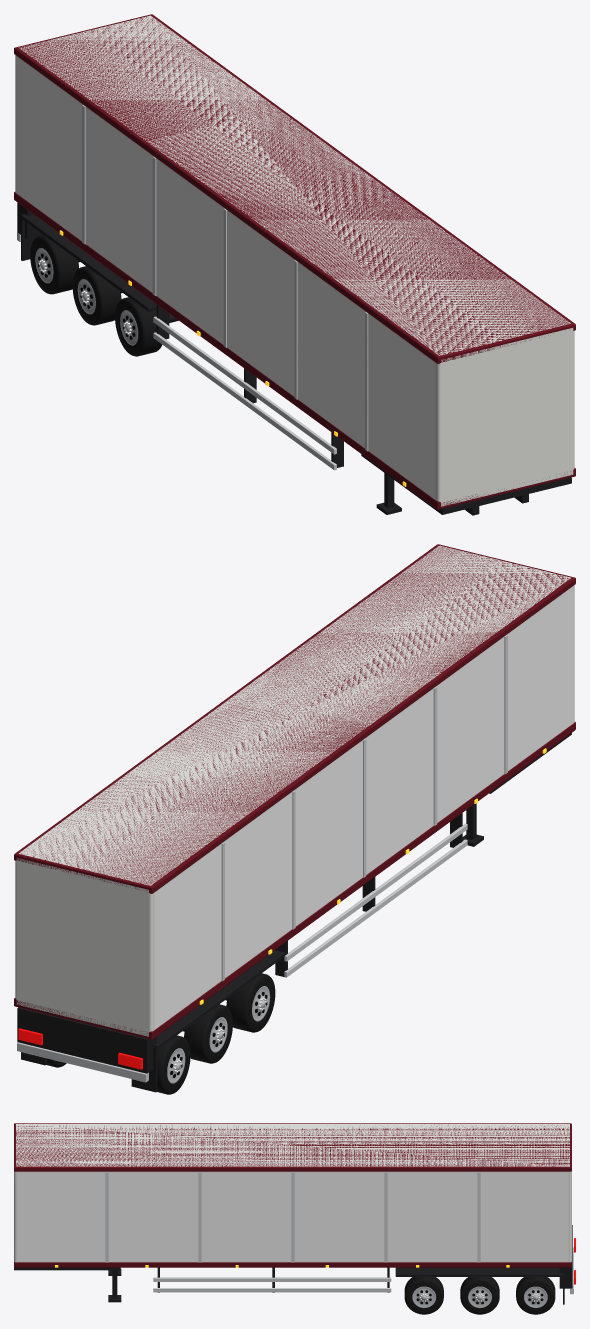
File: trailer.glb
3 renders of one model, top to bottom at view 1: azimuth 30°, elevation 25°; view 2: azimuth 150°, elevation 25°; view 3: azimuth 270°, elevation 25°, orthographic. The views are drawn at different scales.
Parts seen in each view (by area): view 1: body, curtain-1, top_rail, bot_rail, mud-1, w1-1_tire0, w2-1_tire0, guard-10.9, guard-10.62, w0-1_tire0, front_plate, post-14; view 2: body, curtain-1, top_rail, rear_frame, bot_rail, mud-1, w1-1_tire0, w0-1_tire0, guard-10.9, guard-10.62, rear_bumper, w2-1_tire0 (+1 smaller); view 3: curtain1, body, top_rail, bot_rail, mud1, guard10.9, guard10.62, w01_tire0, w11_tire0, w21_tire0, front_plate, w01_rim (+8 smaller).
Part boxes in pixels (x1,y1,x2,y2): body: [15, 15, 574, 506]; curtain-1: [16, 57, 435, 498]; top_rail: [14, 14, 575, 363]; bot_rail: [14, 192, 575, 509]; mud-1: [21, 214, 156, 311]; w1-1_tire0: [72, 266, 121, 325]; w2-1_tire0: [30, 235, 78, 294]; guard-10.9: [153, 316, 336, 454]; guard-10.62: [153, 332, 336, 470]; w0-1_tire0: [115, 297, 162, 356]; front_plate: [361, 454, 571, 514]; post-14: [152, 157, 156, 295]; body: [15, 545, 574, 1036]; curtain-1: [154, 587, 573, 1028]; top_rail: [14, 544, 575, 893]; rear_frame: [17, 1007, 156, 1073]; bot_rail: [14, 722, 575, 1039]; mud-1: [154, 950, 285, 1049]; w1-1_tire0: [184, 1004, 232, 1063]; w0-1_tire0: [226, 973, 275, 1032]; guard-10.9: [284, 823, 467, 961]; guard-10.62: [284, 839, 467, 977]; rear_bumper: [17, 1042, 148, 1082]; w2-1_tire0: [157, 1035, 190, 1094]; curtain1: [17, 1172, 568, 1261]; body: [14, 1124, 571, 1262]; top_rail: [14, 1123, 571, 1171]; bot_rail: [14, 1262, 571, 1267]; mud1: [395, 1267, 563, 1276]; guard10.9: [153, 1277, 391, 1281]; guard10.62: [153, 1288, 391, 1292]; w01_tire0: [404, 1277, 443, 1314]; w11_tire0: [460, 1277, 499, 1314]; w21_tire0: [516, 1277, 555, 1314]; front_plate: [14, 1267, 120, 1270]; w01_rim: [412, 1286, 436, 1308].
Size of the model in its own units: 2.62 by 4 by 13.7.
